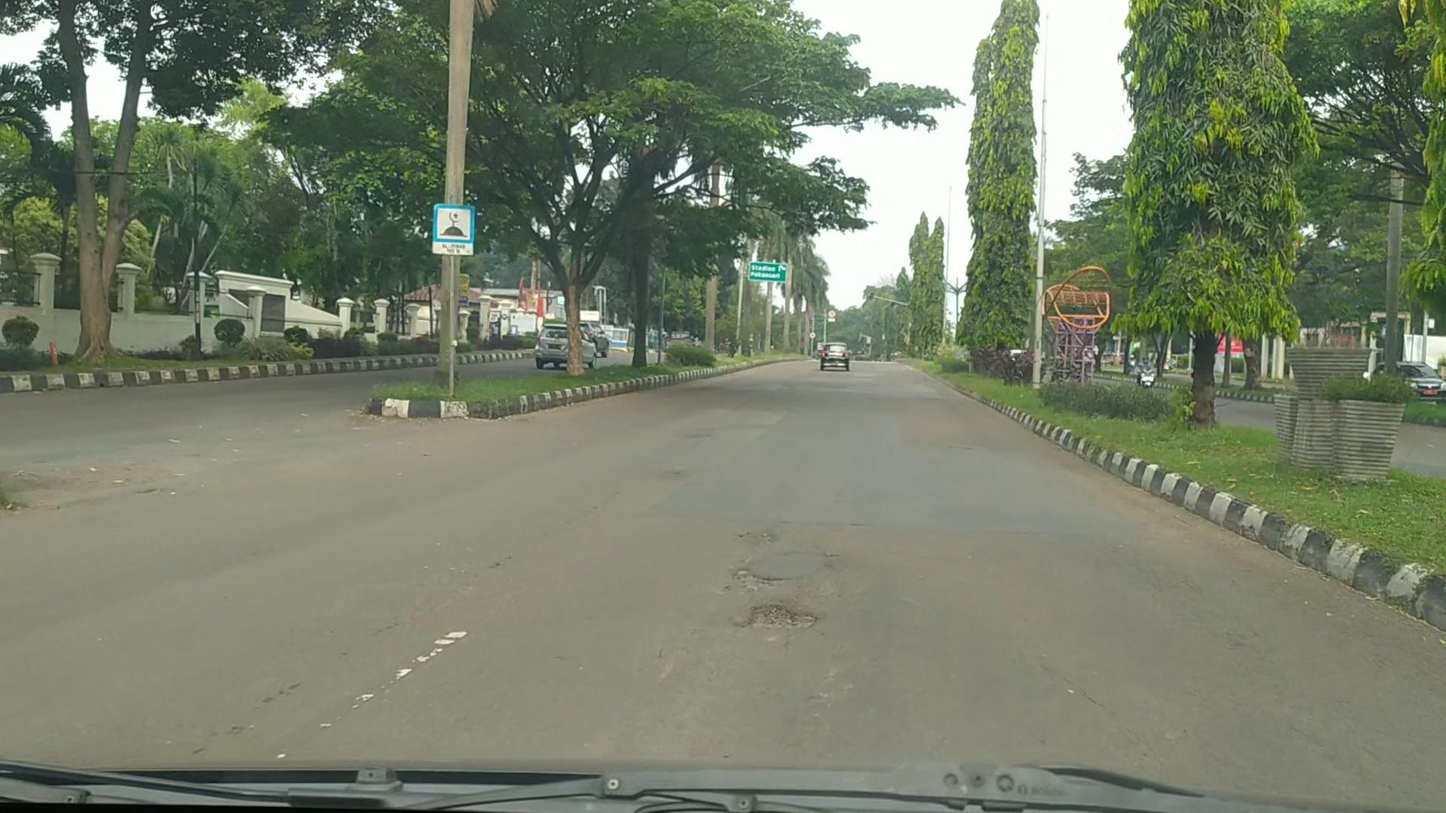pothole: (745, 604, 820, 631), (732, 566, 793, 592)
